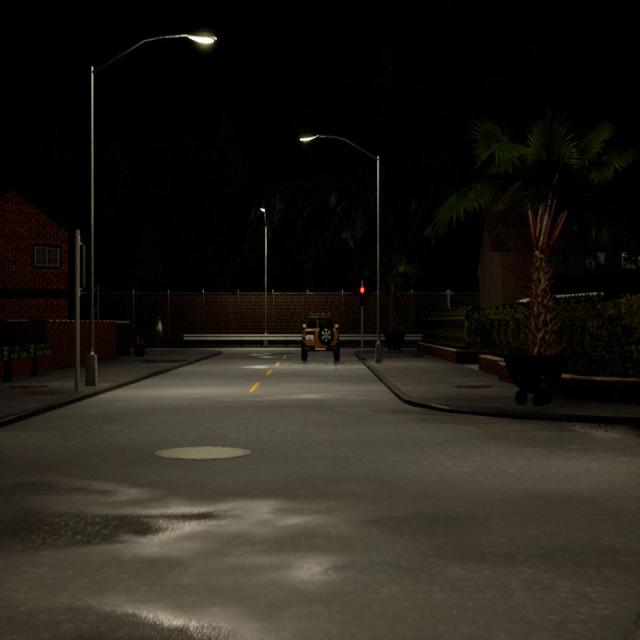Pedestrian: (155, 312, 163, 341)
Vehicle: (300, 312, 341, 361)
traffic_light: (71, 244, 90, 297), (359, 286, 367, 306)
